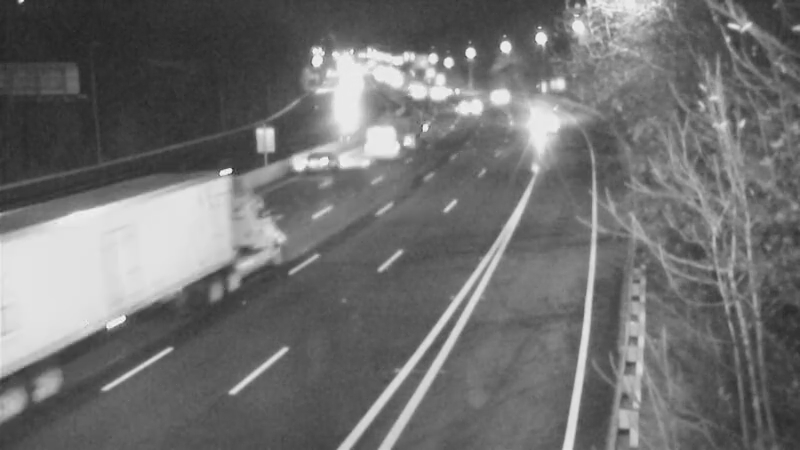vehicle: (285, 121, 365, 201), (40, 225, 120, 305), (471, 73, 521, 123), (410, 69, 460, 119), (444, 84, 494, 134), (515, 93, 565, 143), (357, 112, 407, 162)
